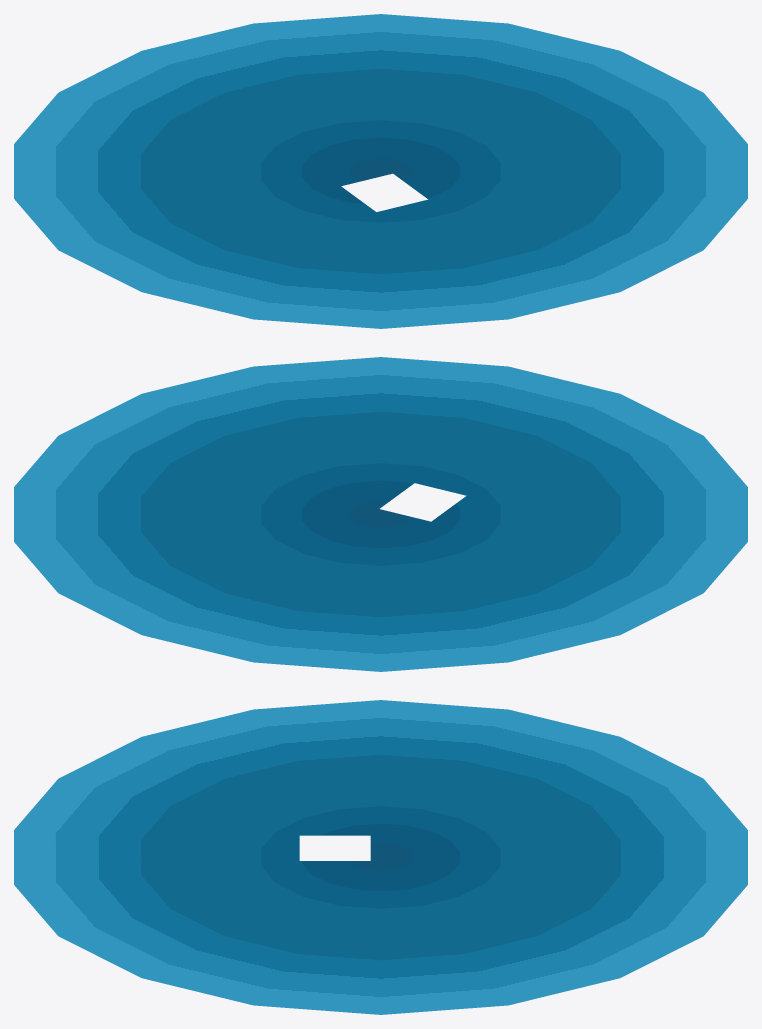
Rendered from kd_connection_world-outer_surface_22_1.glb.
3 views of the same model, one above another, from view 1: azimuth 30°, elevation 25°; view 2: azimuth 150°, elevation 25°; view 3: azimuth 270°, elevation 25° (orthographic).
Parts seen in each view (by area): view 1: kd_connection_world-outer_surface_22_1; view 2: kd_connection_world-outer_surface_22_1; view 3: kd_connection_world-outer_surface_22_1.
Part boxes in pixels (bbox=[...]): kd_connection_world-outer_surface_22_1: bbox=[14, 14, 747, 328]; kd_connection_world-outer_surface_22_1: bbox=[14, 357, 747, 671]; kd_connection_world-outer_surface_22_1: bbox=[14, 700, 747, 1014].
Bounding box in the file's own units: 25601 × 0.000902 × 25212.
1 material, 1 textured.
